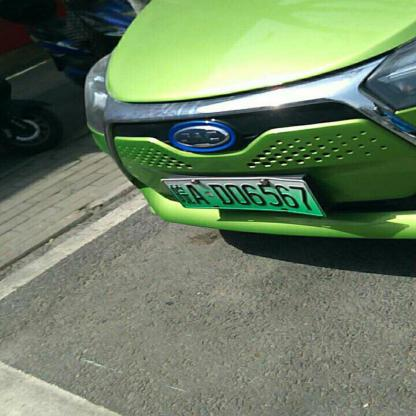lp: (162, 180, 324, 216)
